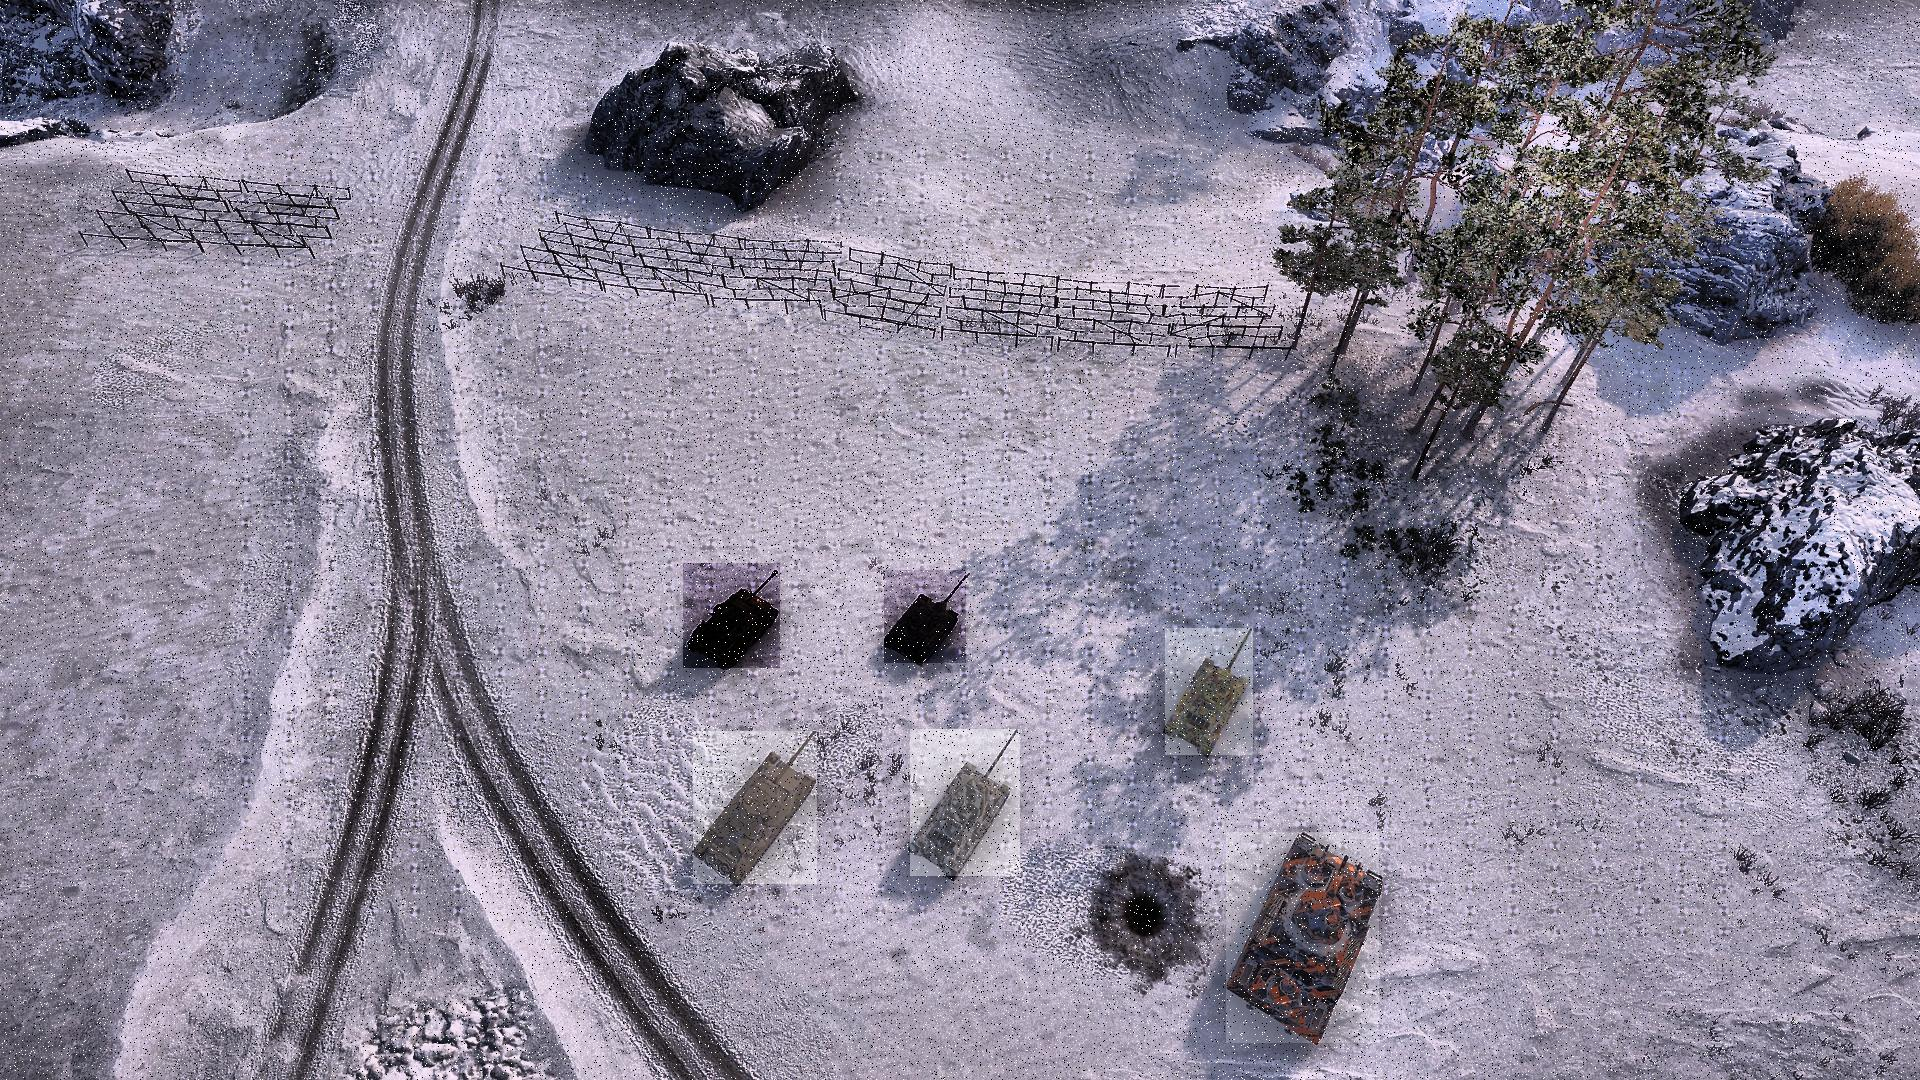military-vehicle: (1226, 832, 1379, 1043), (694, 732, 816, 885), (910, 731, 1021, 877), (1166, 628, 1253, 756), (683, 563, 781, 669), (885, 570, 967, 663)
